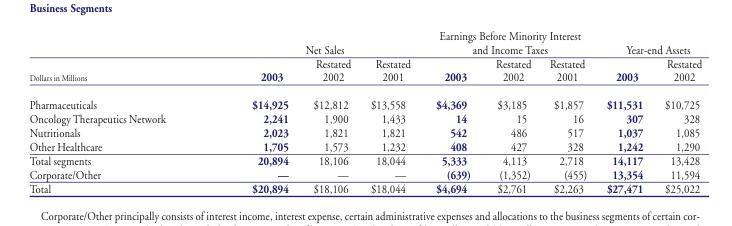table: (28, 28, 701, 194)
table column: (28, 28, 208, 194), (208, 28, 300, 194), (360, 28, 422, 194), (300, 28, 360, 194), (422, 28, 482, 194), (482, 28, 539, 194), (539, 28, 596, 194), (596, 28, 653, 194), (653, 28, 701, 194)
table column header: (28, 28, 701, 90)
table row: (28, 56, 701, 90), (28, 28, 701, 56), (28, 90, 701, 111), (28, 111, 701, 125), (28, 125, 701, 139), (28, 139, 701, 153), (28, 153, 701, 167), (28, 167, 701, 181), (28, 181, 701, 194)
table spanning cell: (28, 28, 208, 90), (208, 28, 422, 56), (422, 28, 596, 56), (596, 28, 701, 56)
